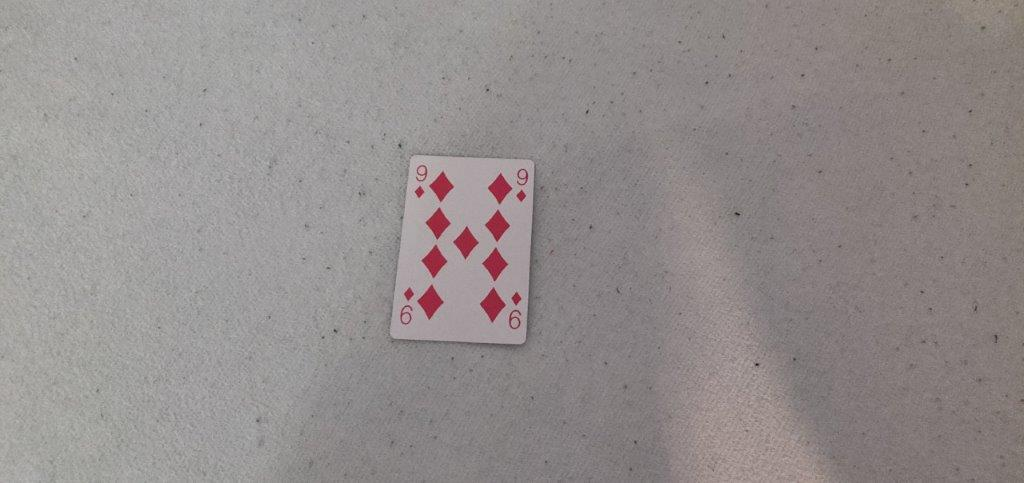9D: (410, 161, 429, 200), (512, 166, 529, 205)
